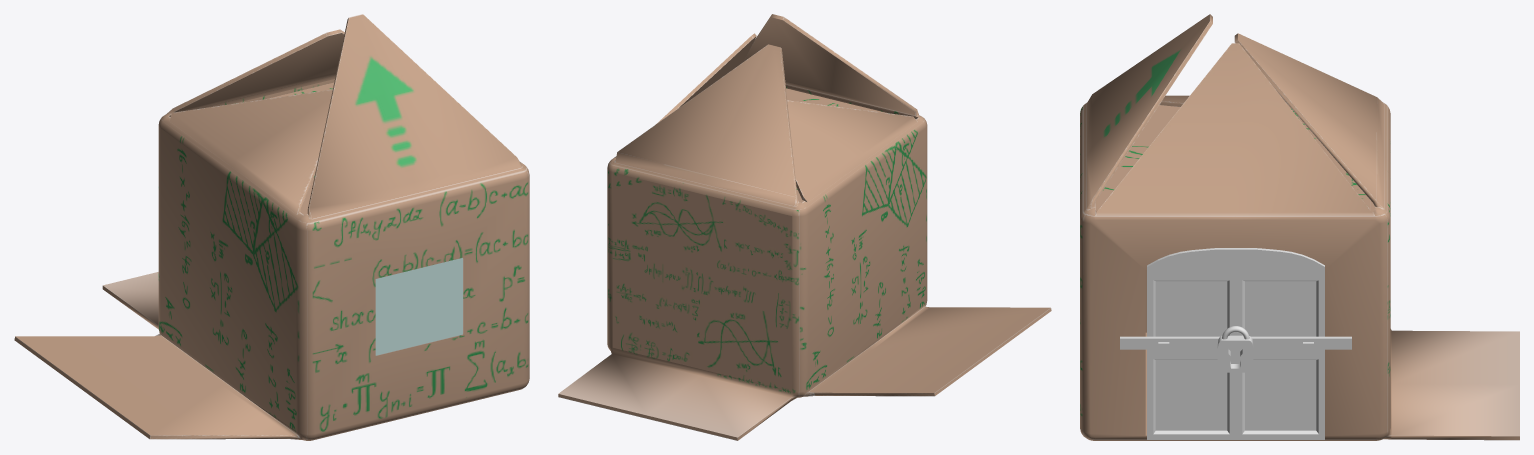
Rendered from Dooshuis met deur met animatiepogingfix door chrisjeeeee.fbx.
The picture shows the model from 3 angles, left to right: view 1: azimuth 30°, elevation 25°; view 2: azimuth 150°, elevation 25°; view 3: azimuth 270°, elevation 25°; orthographic projection. The views are drawn at different scales.
Visible parts, largest first — view 1: Cube_4; view 2: Cube_4; view 3: Cube_4, Cube, Cube_1, Torus_1.
Boxes of the visible parts, box(x1,y1,x2,y2) form: Cube_4: box(14, 14, 529, 440); Cube_4: box(558, 14, 1051, 440); Cube_4: box(1080, 14, 1519, 440); Cube: box(1147, 248, 1324, 439); Cube_1: box(1120, 336, 1351, 349); Torus_1: box(1217, 326, 1253, 372).
Bounding box in the file's own units: 1122 × 969 × 1045.
Materials: 2 (2 with a texture image).
